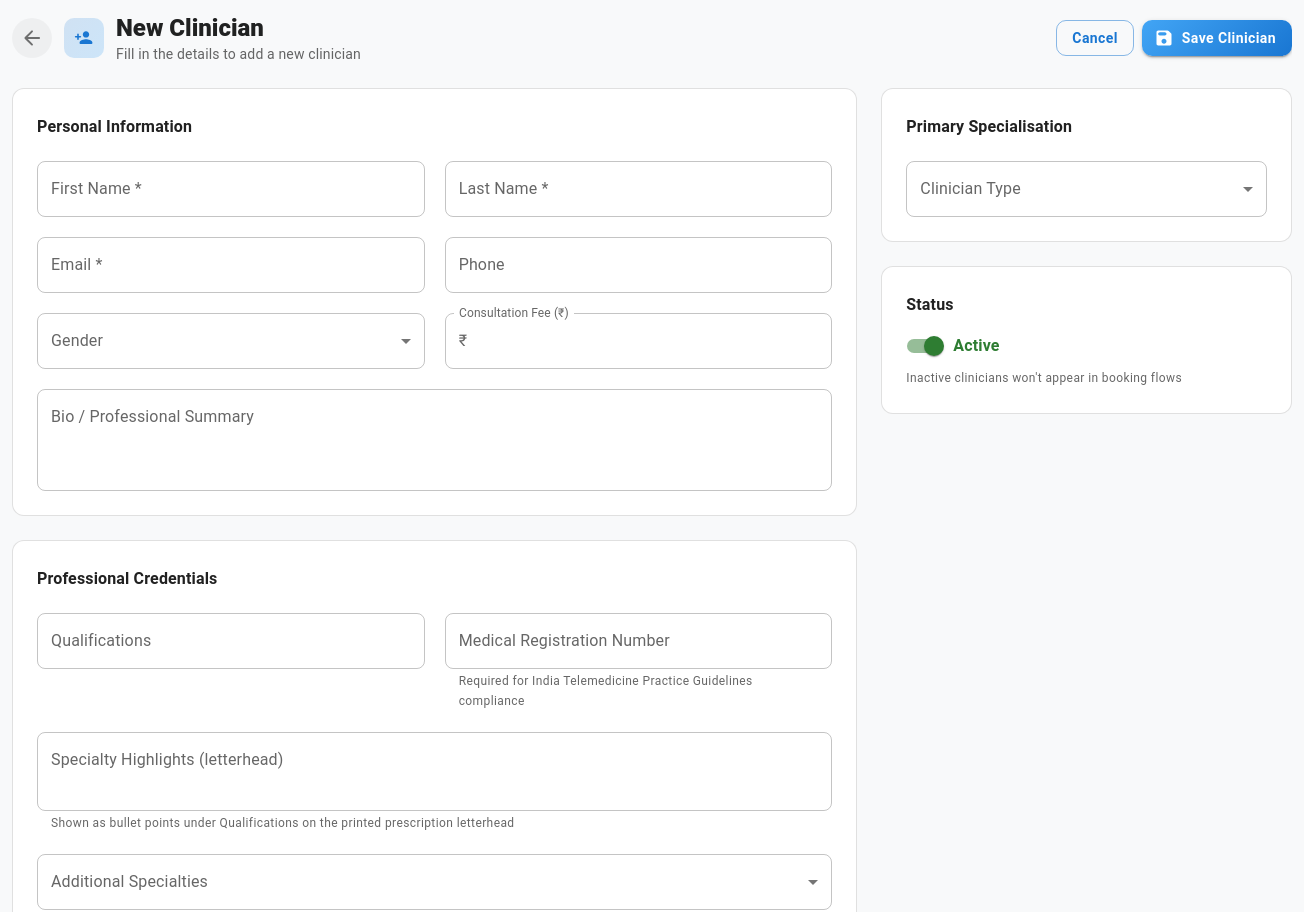
Test: clinicians/CreateClinicianPage (REQ141) › blocks submission client-side on an invalid email format
In the field labelled "First Name *": (231, 189) [37,161,425,217], type "Sarah"
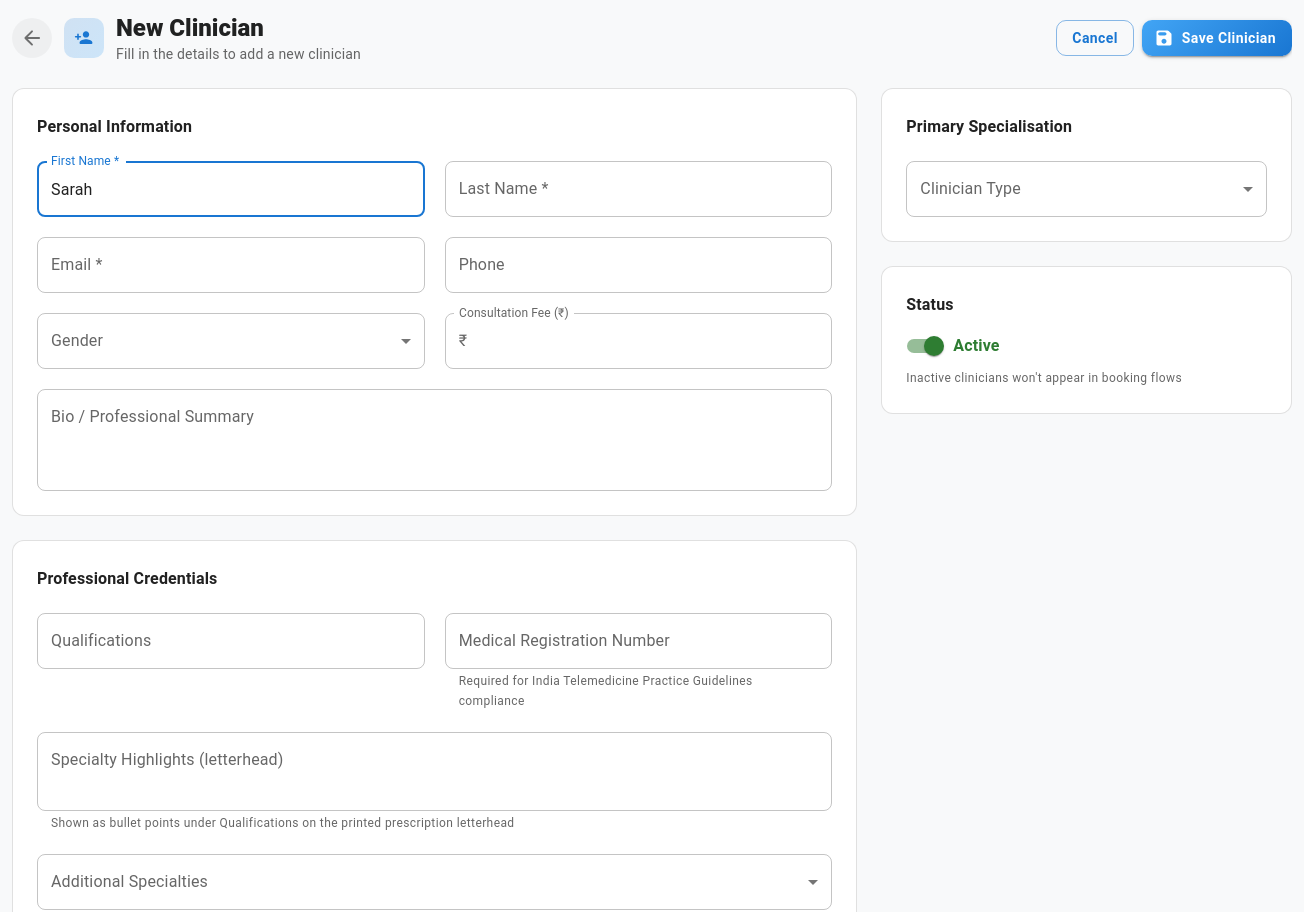
In the field labelled "Last Name *": (639, 189) [445,161,832,217], type "Mitchell"
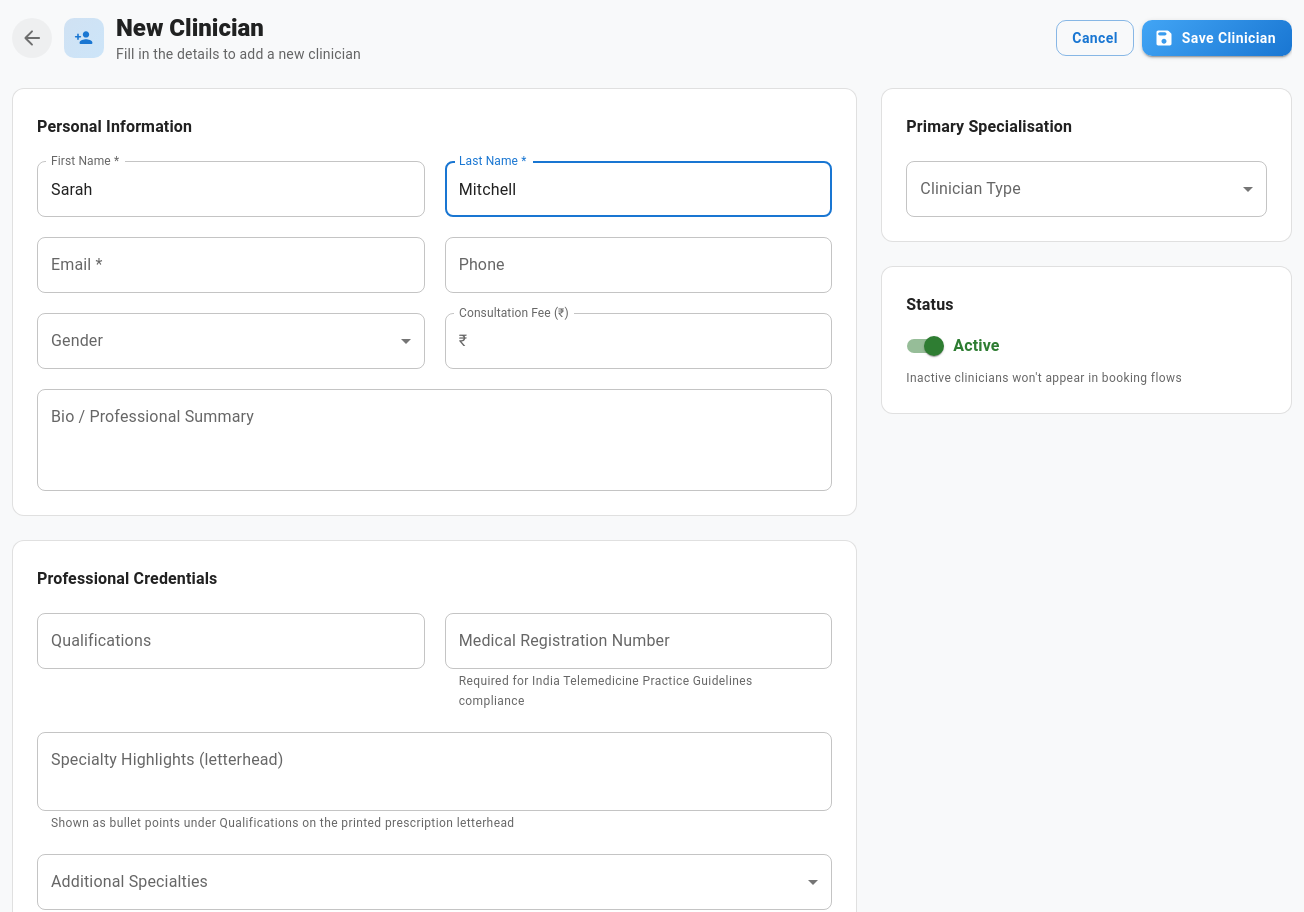
In the field labelled "Email *": (231, 265) [37,237,425,293], type "not-an-email"
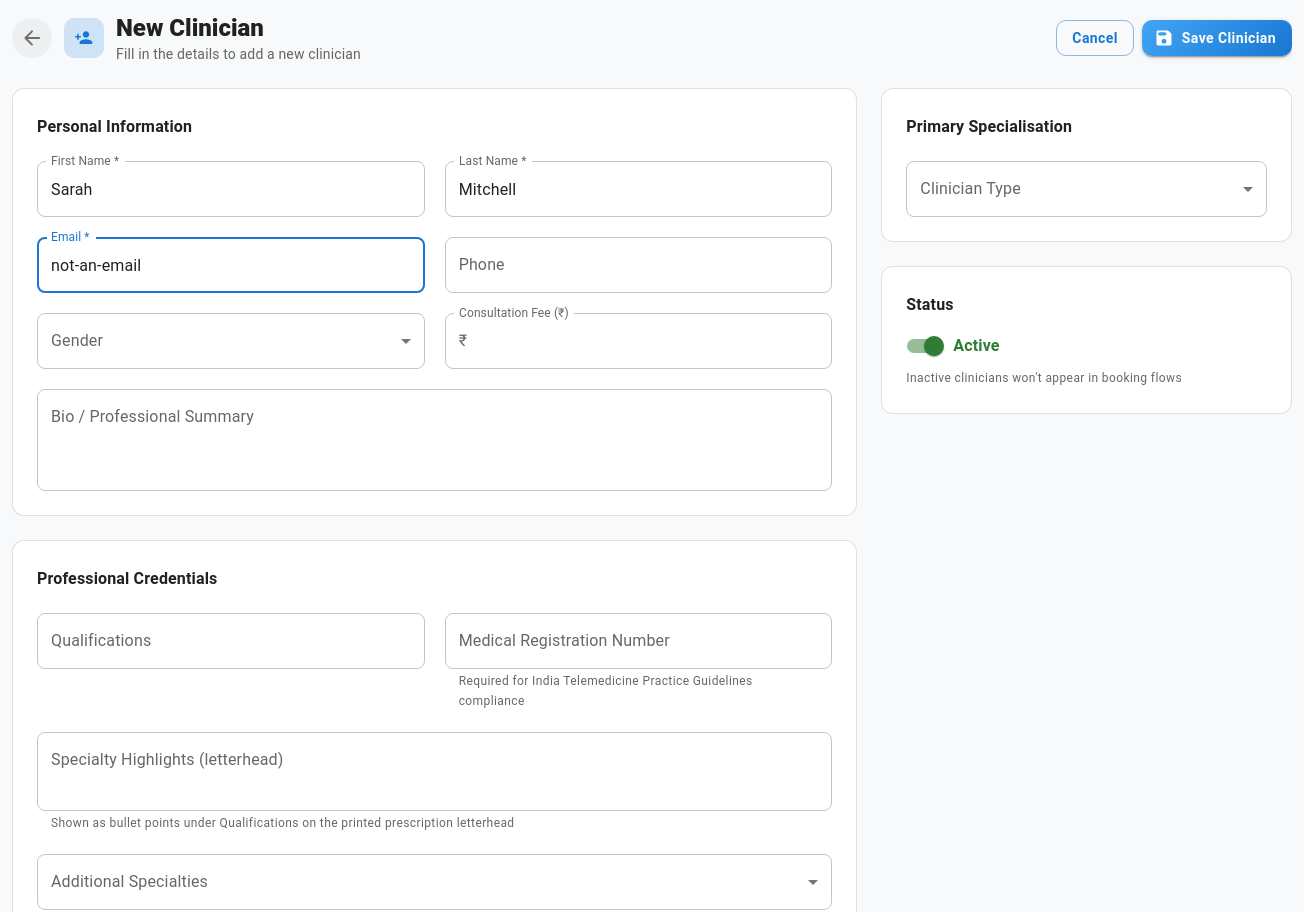
Click the button "Save Clinician": (1217, 38) [1142,20,1292,56]
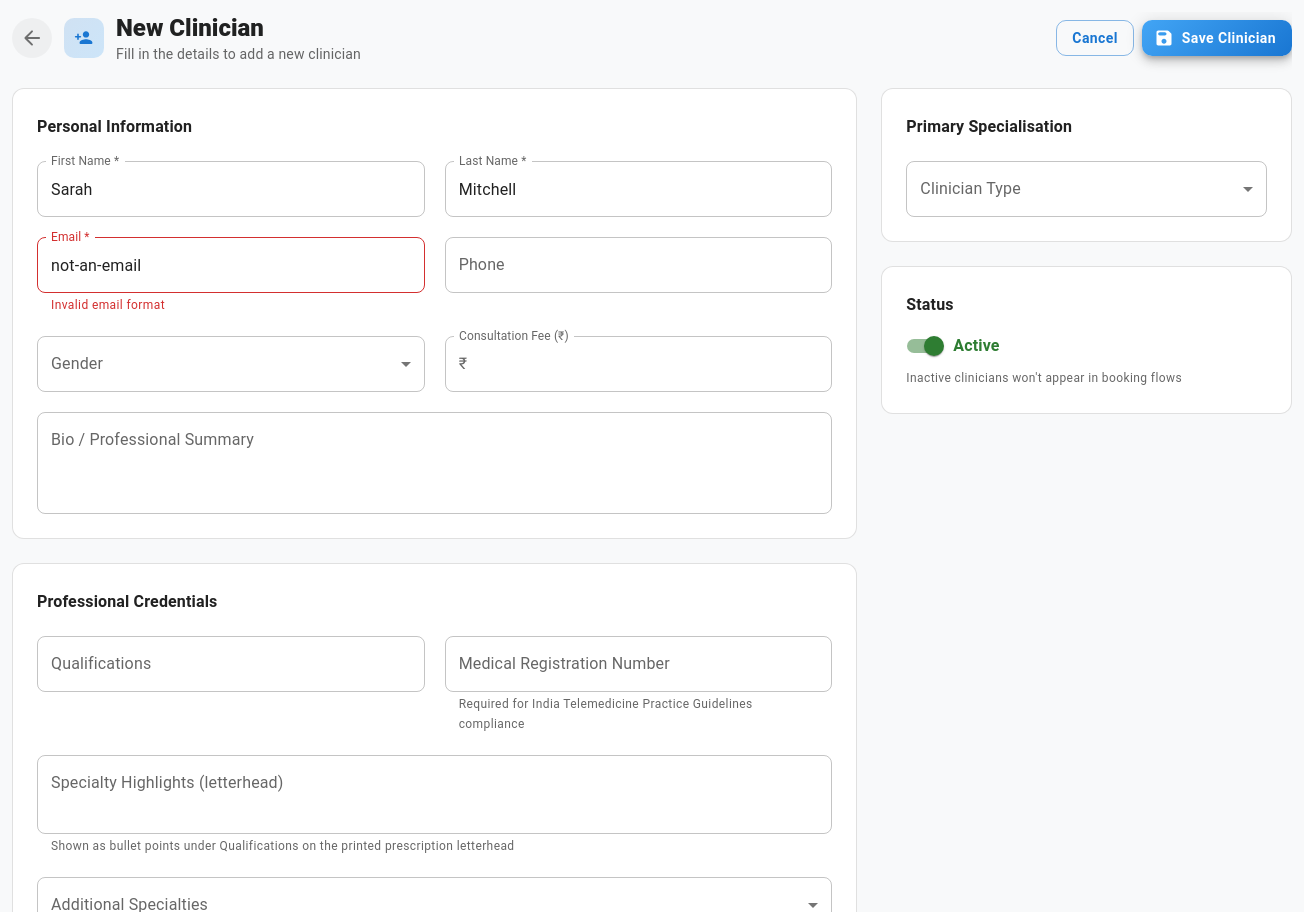
Expected: the text "Invalid email format" is shown, [51,298,165,312]
